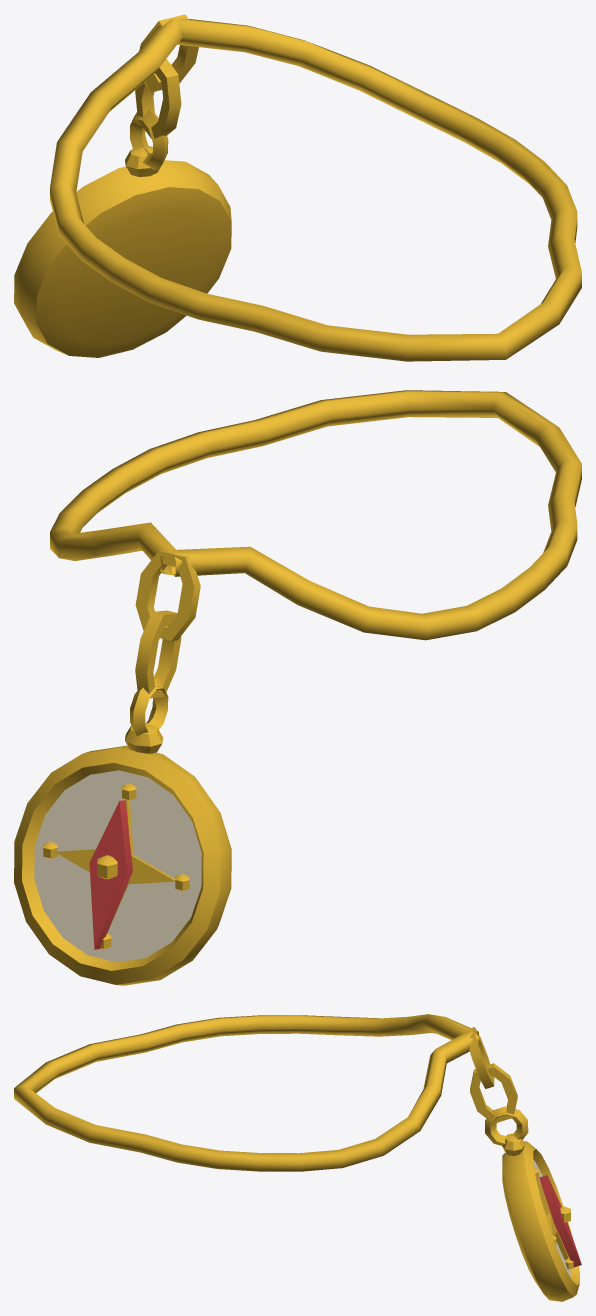
File: boussole.fbx
3 views of the same model, one above another, from view 1: azimuth 30°, elevation 25°; view 2: azimuth 150°, elevation 25°; view 3: azimuth 270°, elevation 25° (orthographic). The views are drawn at different scales.
Visible parts, largest first — view 1: Chaine, Anim_Medaillon; view 2: Anim_Medaillon, Chaine, Anim_Aiguille; view 3: Chaine, Anim_Medaillon, Anim_Aiguille.
Boxes of the visible parts, <box> form: Chaine: <box>50,18,581,361</box>; Anim_Medaillon: <box>14,14,231,357</box>; Anim_Medaillon: <box>14,550,231,985</box>; Chaine: <box>50,390,581,640</box>; Anim_Aiguille: <box>89,800,132,949</box>; Chaine: <box>14,1014,478,1171</box>; Anim_Medaillon: <box>469,1027,579,1301</box>; Anim_Aiguille: <box>539,1175,581,1267</box>.
Size of the model in its own units: 0.624 by 0.5228 by 1.03.
